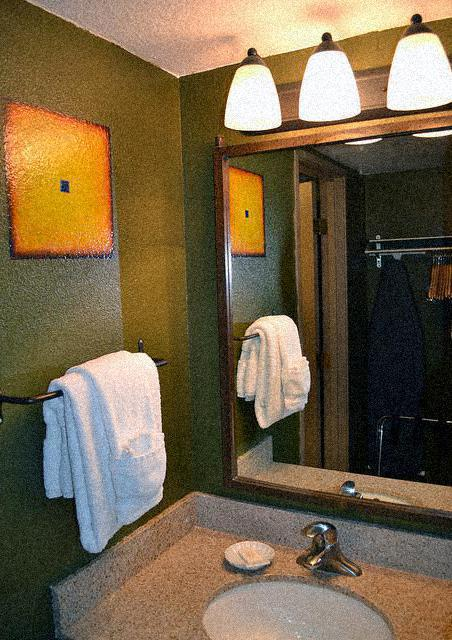Lavamanos: (192, 522, 396, 639)
